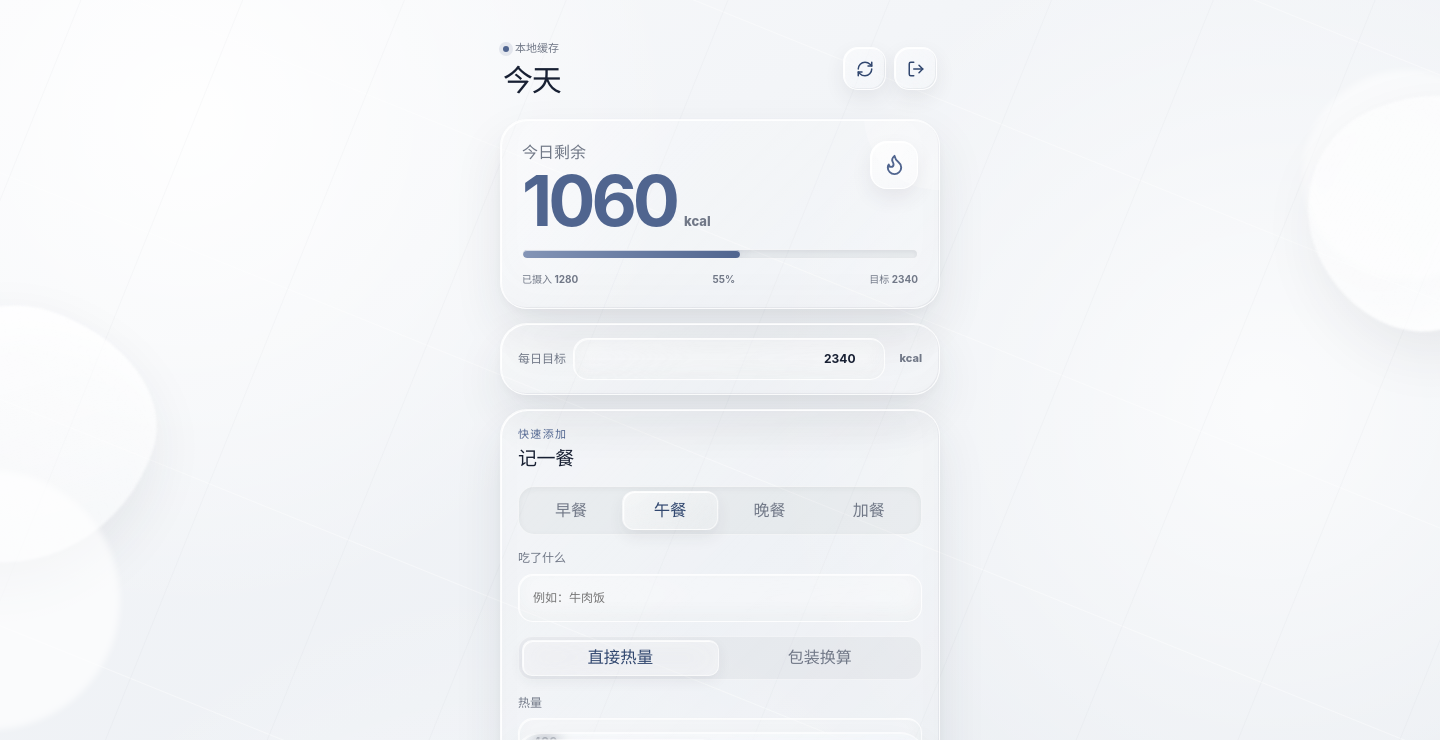
App › shows an explicit animated status while a network request is pending
Click the button named "同步" at [864, 69], box left=843, top=48, right=886, bottom=90
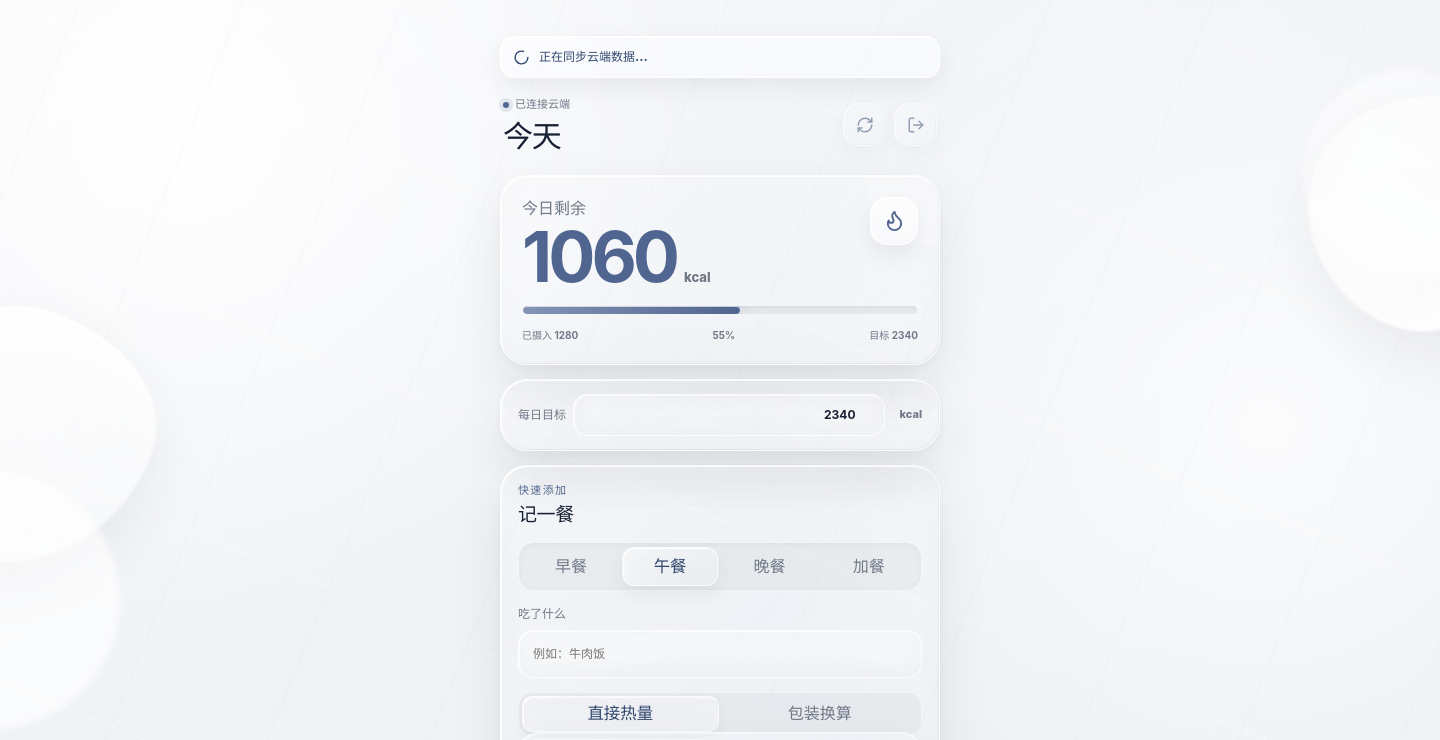
Result: the message shows "正在同步云端数据" at left=539, top=49, right=648, bottom=64
Result: the icon with class "spinner" next to "正在同步云端数据..." is shown at left=513, top=48, right=530, bottom=66
Result: the button named "同步" is disabled at left=843, top=104, right=886, bottom=146
